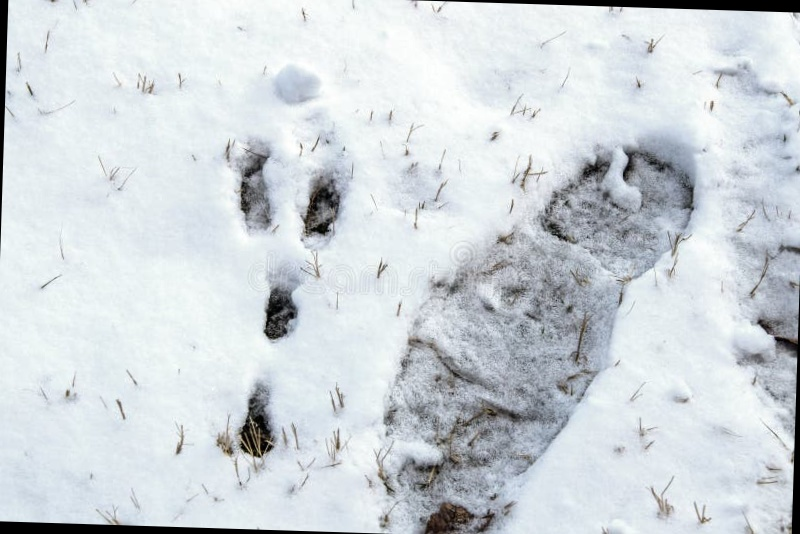rabbit: (208, 96, 369, 421)
